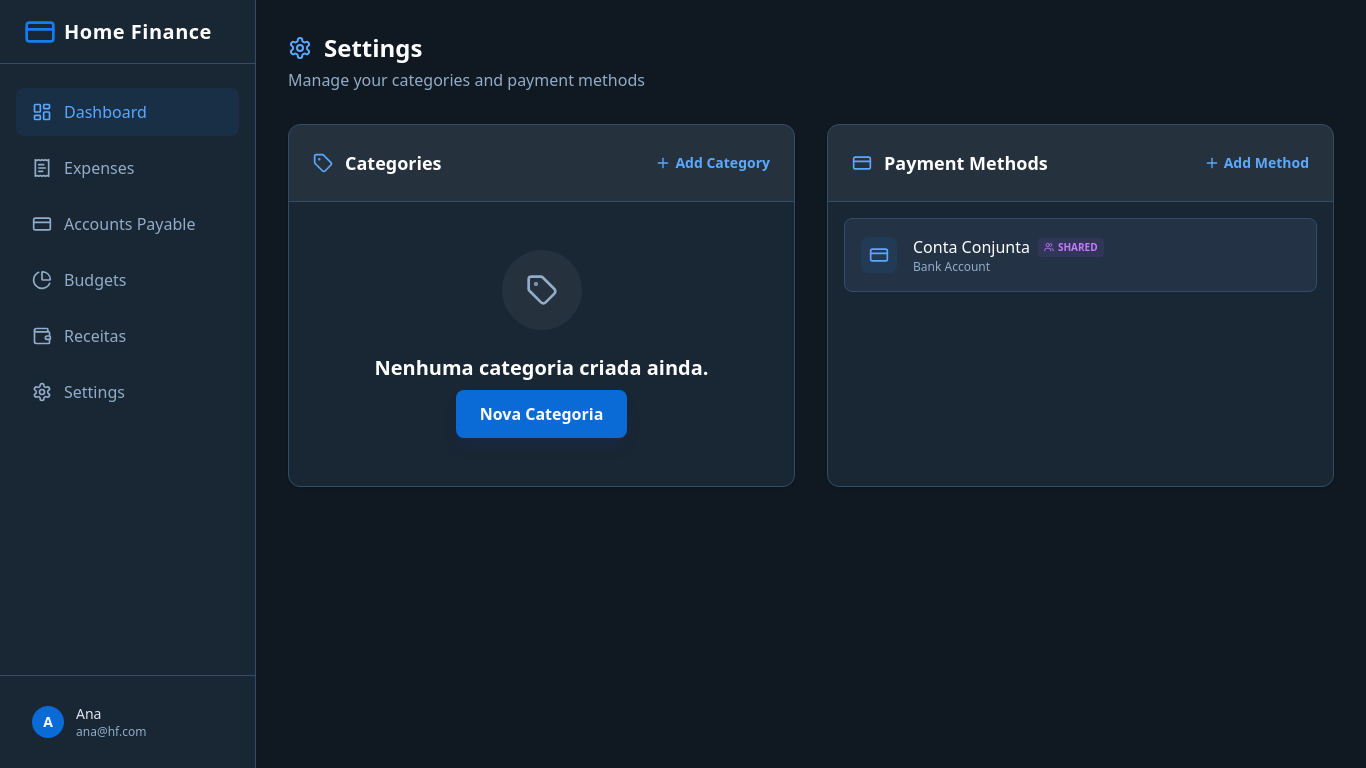
Test: Settings (integração) › clicar em uma forma de pagamento compartilhada abre o modal de edição e mostra selo Shared
Check: the text "Shared" is shown, box [1038,238,1104,256]
Click the text "Conta Conjunta" at (1008, 247), box [913,235,1104,259]
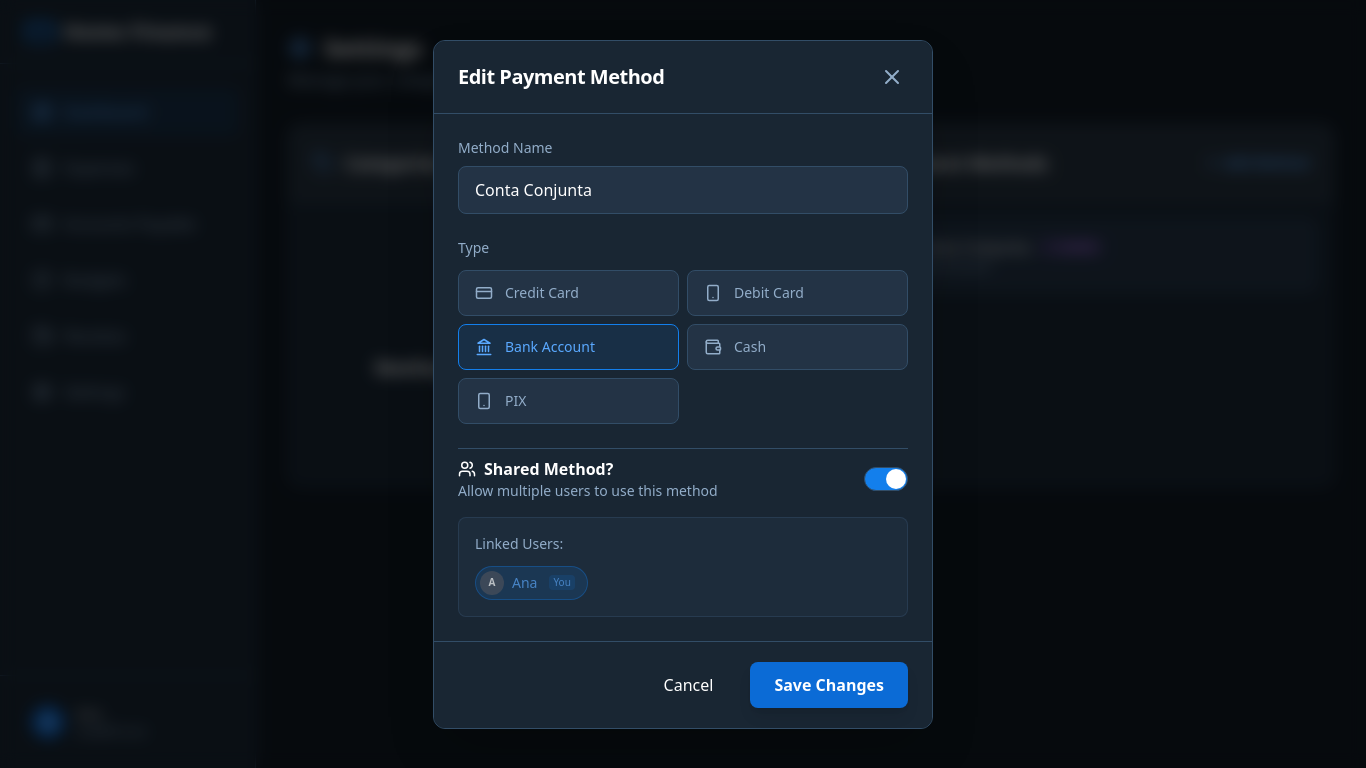
Check: the heading "Edit Payment Method" is shown, box [458,62,664,90]
Check: the field showing "Conta Conjunta" is shown, box [458,166,908,214]
